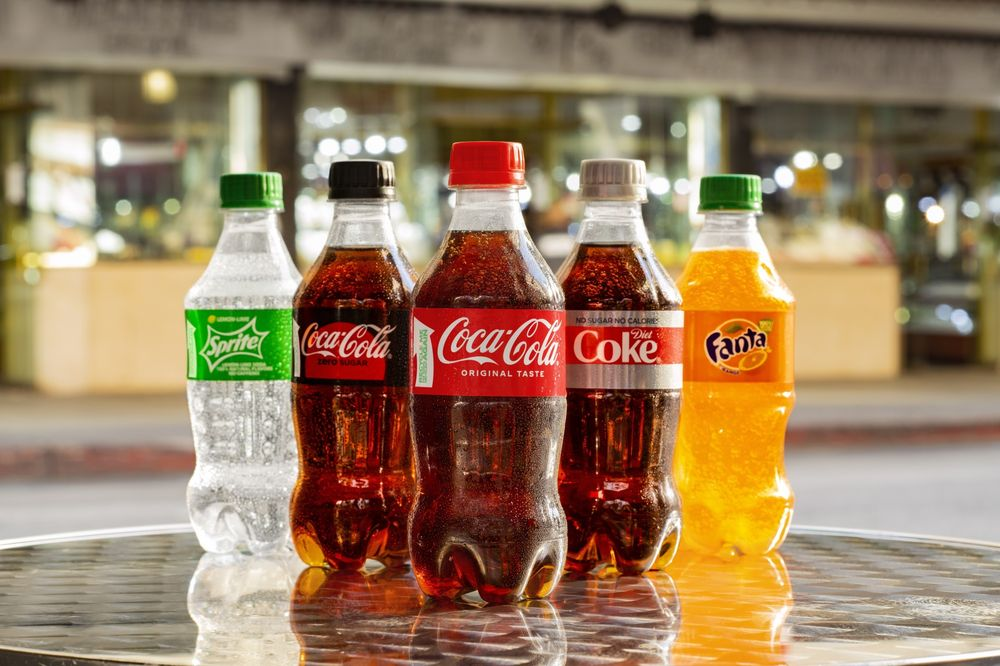plastic_bottle: (567, 29, 877, 666), (362, 80, 626, 661), (222, 33, 454, 635), (519, 77, 729, 666), (109, 140, 332, 666)
